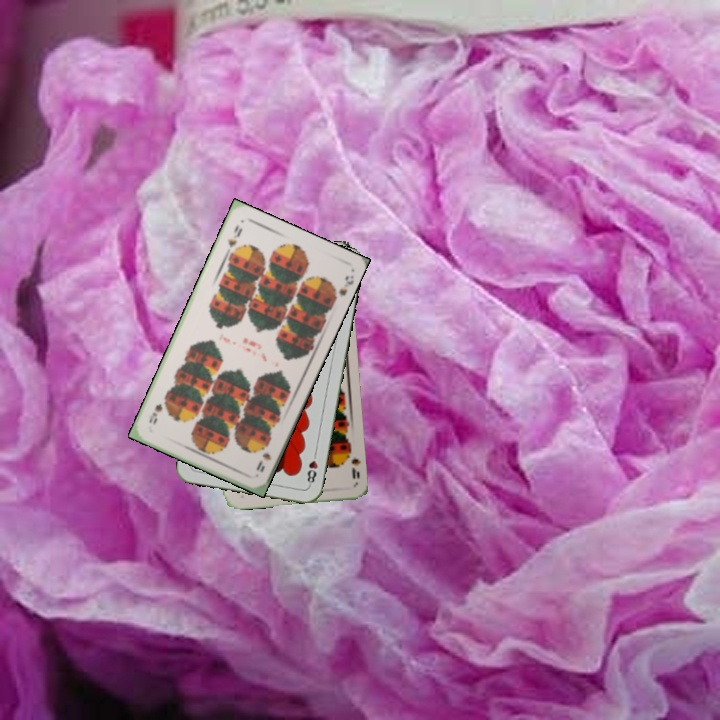H8: (303, 448, 320, 488)
S9: (252, 438, 274, 475), (343, 444, 363, 481), (223, 220, 245, 250)
